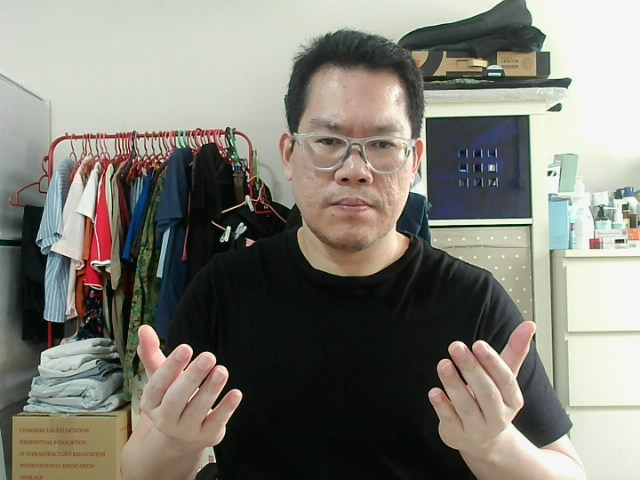want: (436, 328, 528, 442)
